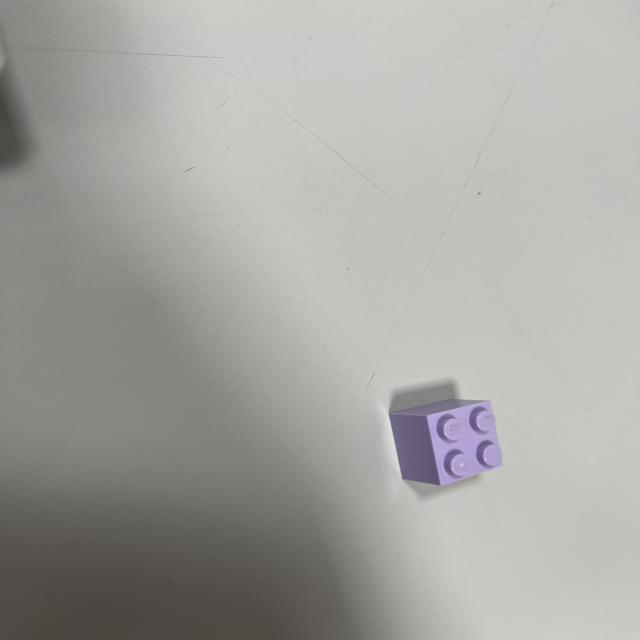C2x2x1: (392, 397, 507, 493)
